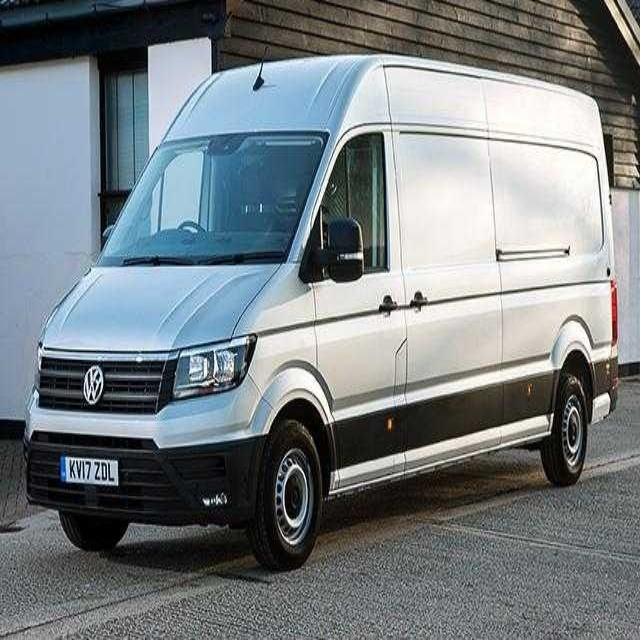Van: (22, 52, 619, 571)
